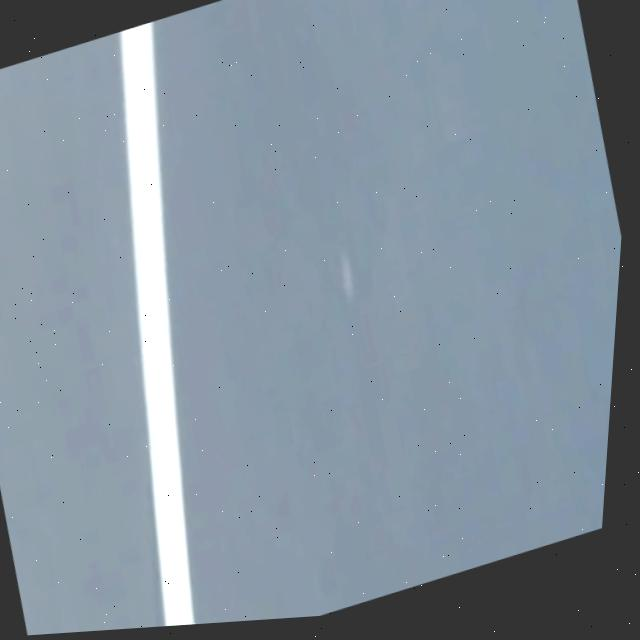center: (120, 21, 195, 626)
